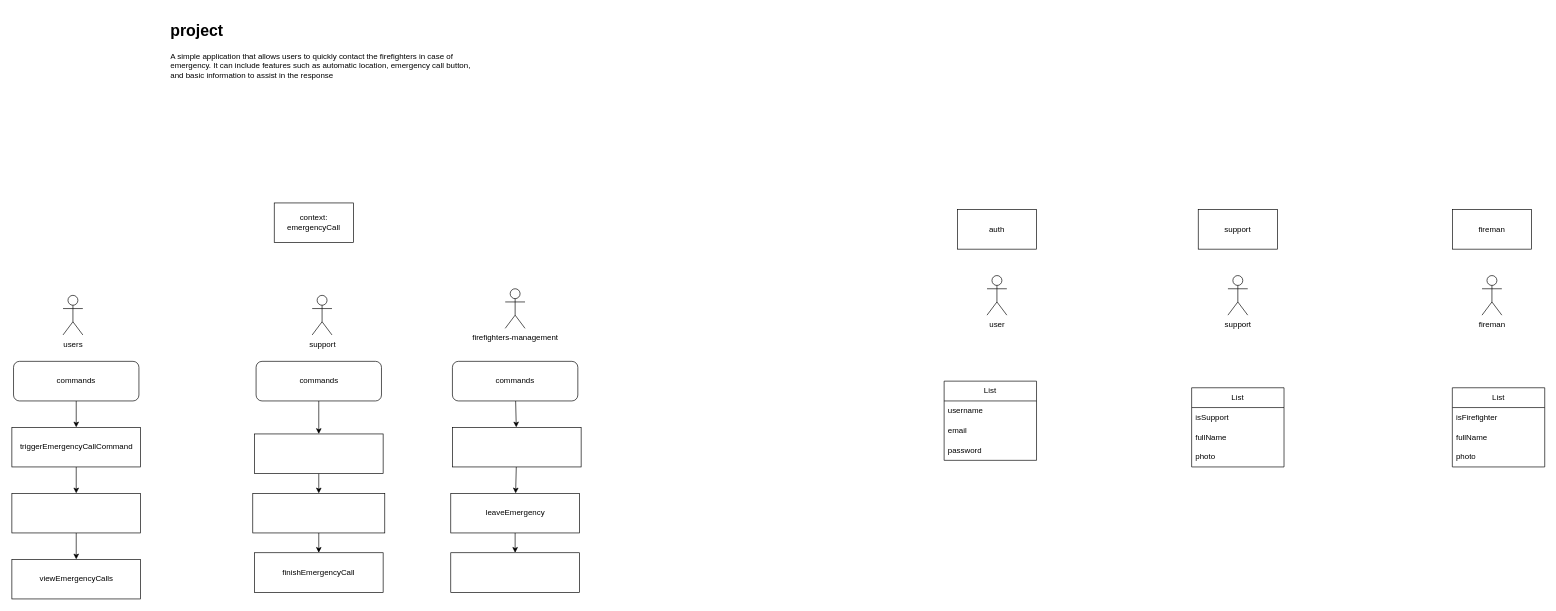
Some shapes in this 1556 by 611 pixel diagram are drawn without their labels. Each missing label, with the centre of its shape:
assumeEmergencyCallCommand: point (318, 453)
cancelEmergencyCall: point (76, 513)
requestFireFightersForEmergency: point (318, 513)
RespondToEmergency: point (516, 447)
sendCurrentyLocation: point (514, 572)
